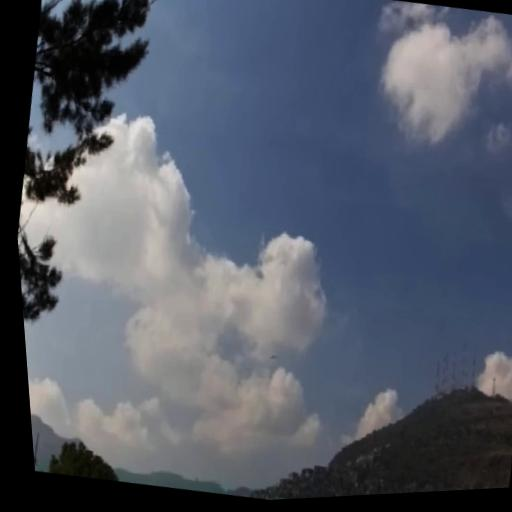drones: (264, 349, 280, 362)
